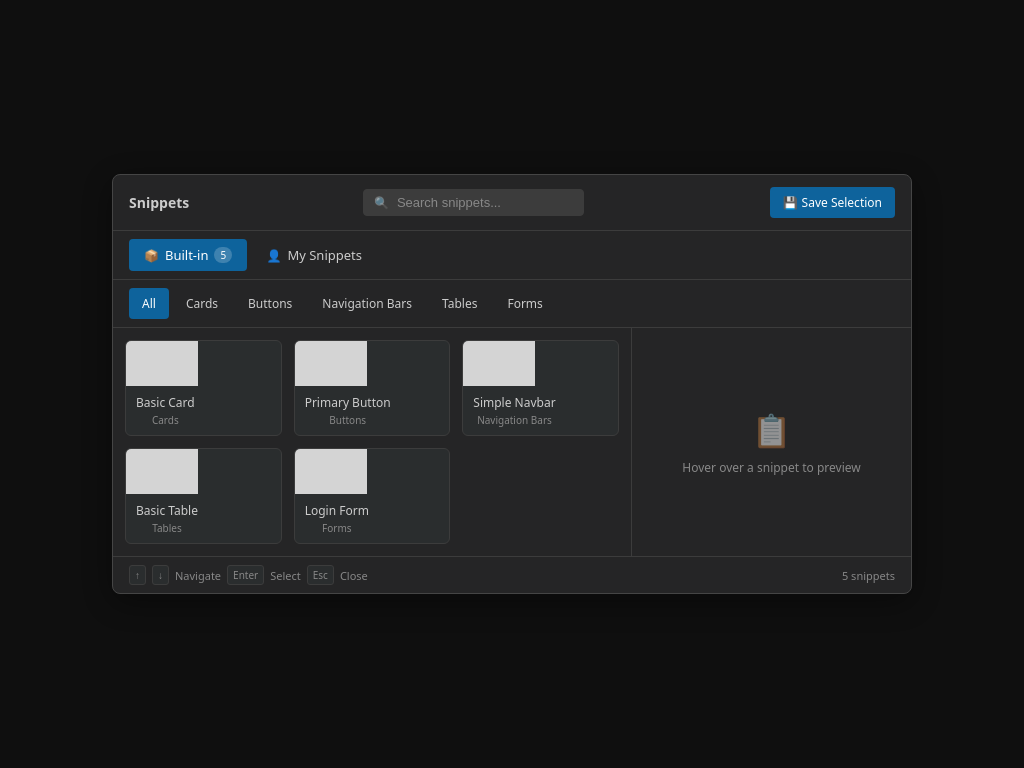
Test case: SnippetSelector.vue › Search/Filter › should filter snippets by category
# Click on the Buttons category tab
What coordinates should you click on to do the following:
click the tab with class "category-tab" showing "Buttons"
I would click on:
 (270, 304)
Its box is [235,288,305,319].
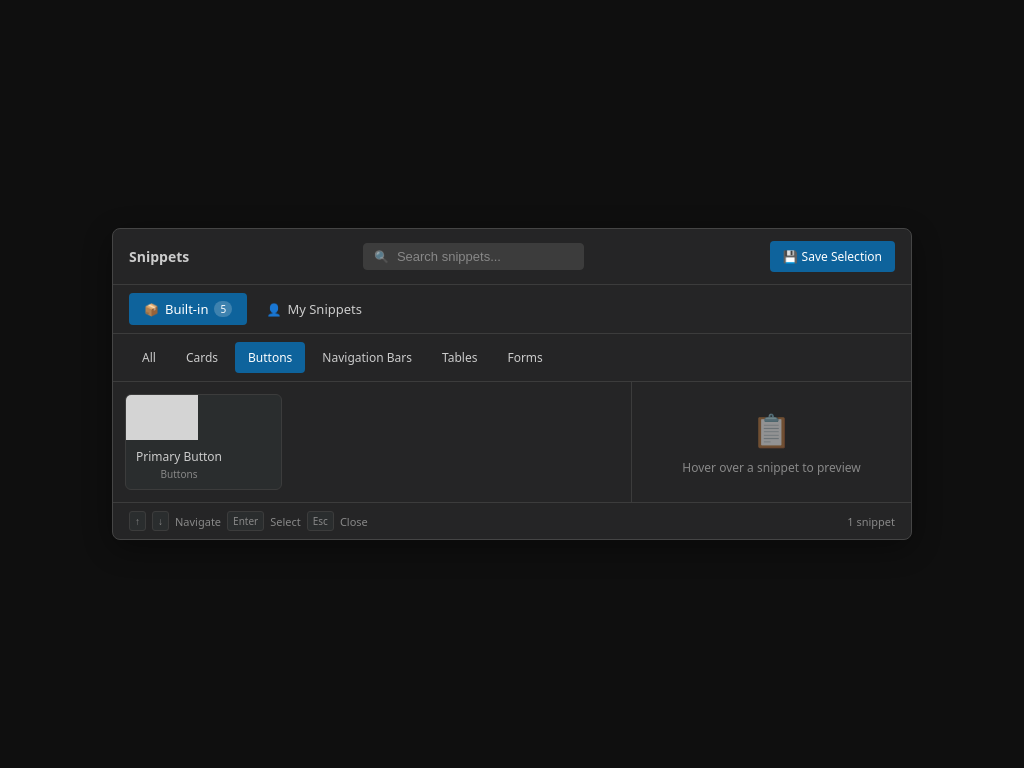
expect the text with class "snippet-name" reads "Primary Button": met, box [136,448,222,465]
expect the number of options with class "snippet-item" is 1: met, box [125,394,282,490]
